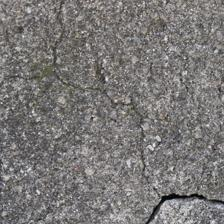Crack: (60, 0, 138, 93), (0, 0, 86, 70), (93, 28, 131, 139)
